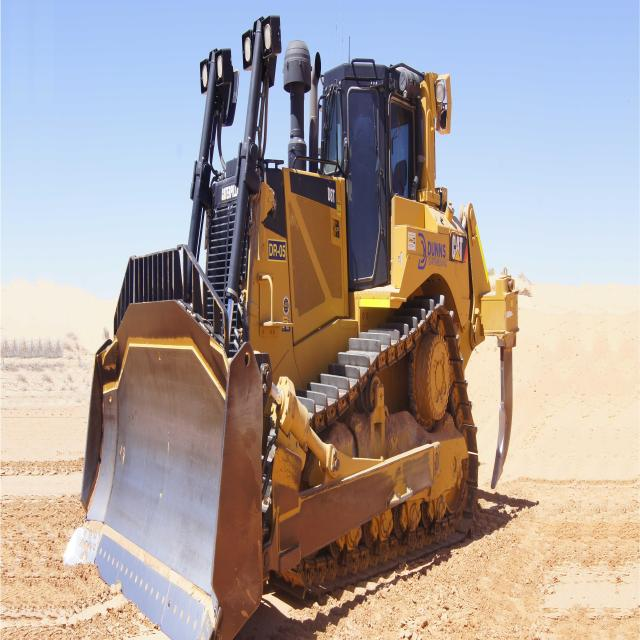buldozerpayloadergrader: (74, 15, 525, 640)
